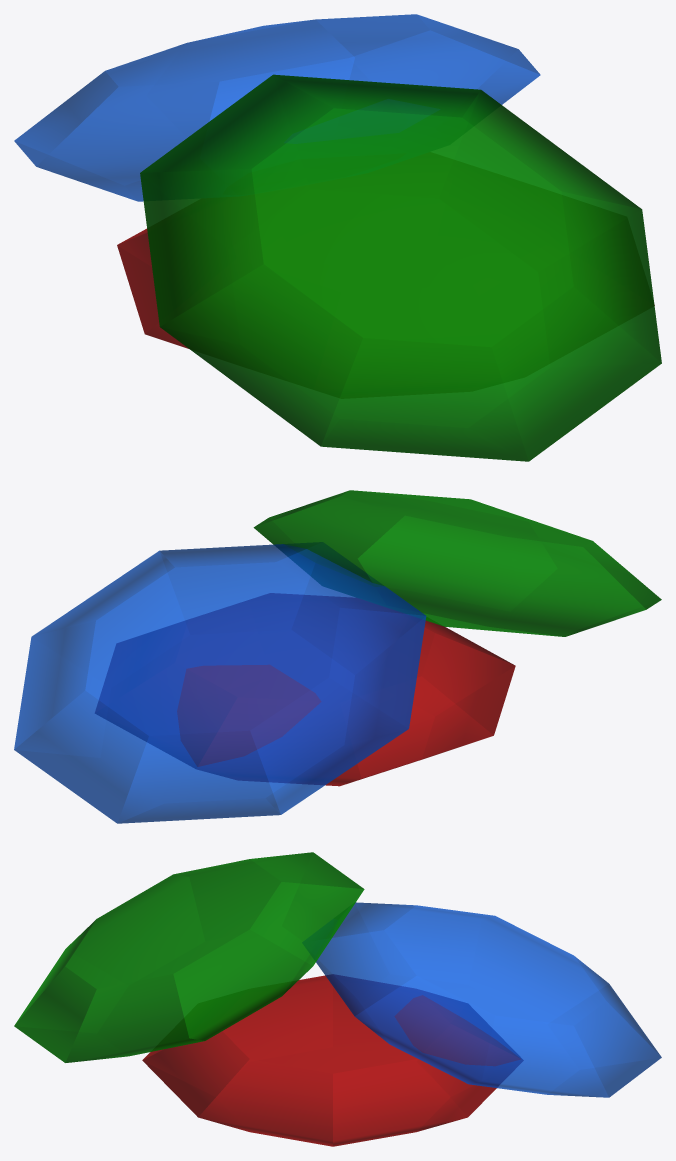
File: gemz1.fbx
3 renders of one model, top to bottom at view 1: azimuth 30°, elevation 25°; view 2: azimuth 150°, elevation 25°; view 3: azimuth 270°, elevation 25°, orthographic. The views are drawn at different scales.
Parts seen in each view (by area): view 1: emerald, sapphire, ruby; view 2: sapphire, ruby, emerald; view 3: sapphire, emerald, ruby.
Boxes of the visible parts, x1,y1,x2,y2 form: emerald: [140, 74, 661, 461]; sapphire: [14, 14, 540, 201]; ruby: [117, 228, 654, 348]; sapphire: [14, 542, 426, 823]; ruby: [95, 593, 515, 786]; emerald: [253, 490, 661, 636]; sapphire: [302, 902, 661, 1097]; emerald: [14, 852, 364, 1062]; ruby: [142, 974, 522, 1146].
Bounding box in the file's own units: 8.63 × 4.2 × 12.34.
